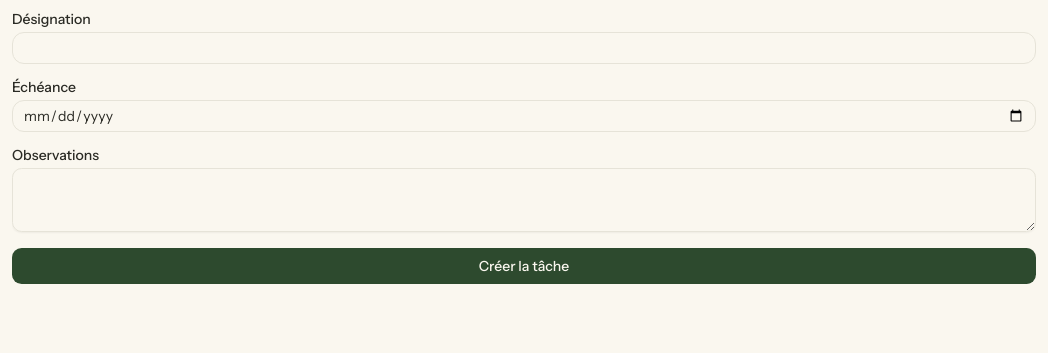
it: EmployeeTaskForm (création — pas de tâche fournie) › affiche des erreurs de validation si les champs requis sont vides
The image size is (1048, 353).
Step 1. Click the button "Créer la tâche" → [524, 266], box [12,248,1036,284]
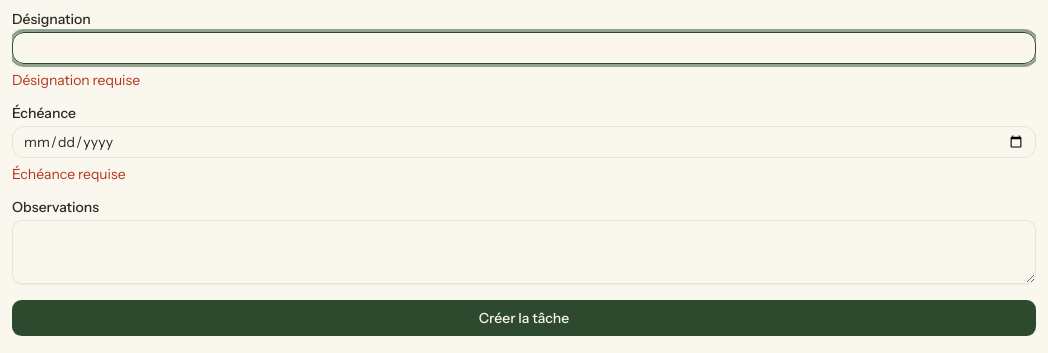
Check: the text "Désignation requise" is shown, box [12,71,140,89]
Check: the text "Échéance requise" is shown, box [12,165,126,183]
